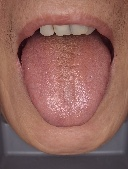tongue: (20, 38, 112, 128)
